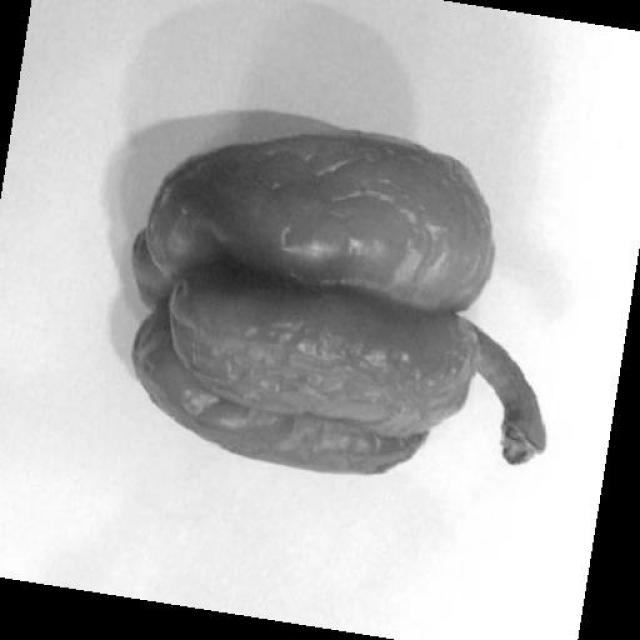Stale_Capsicum: (140, 130, 476, 460)
